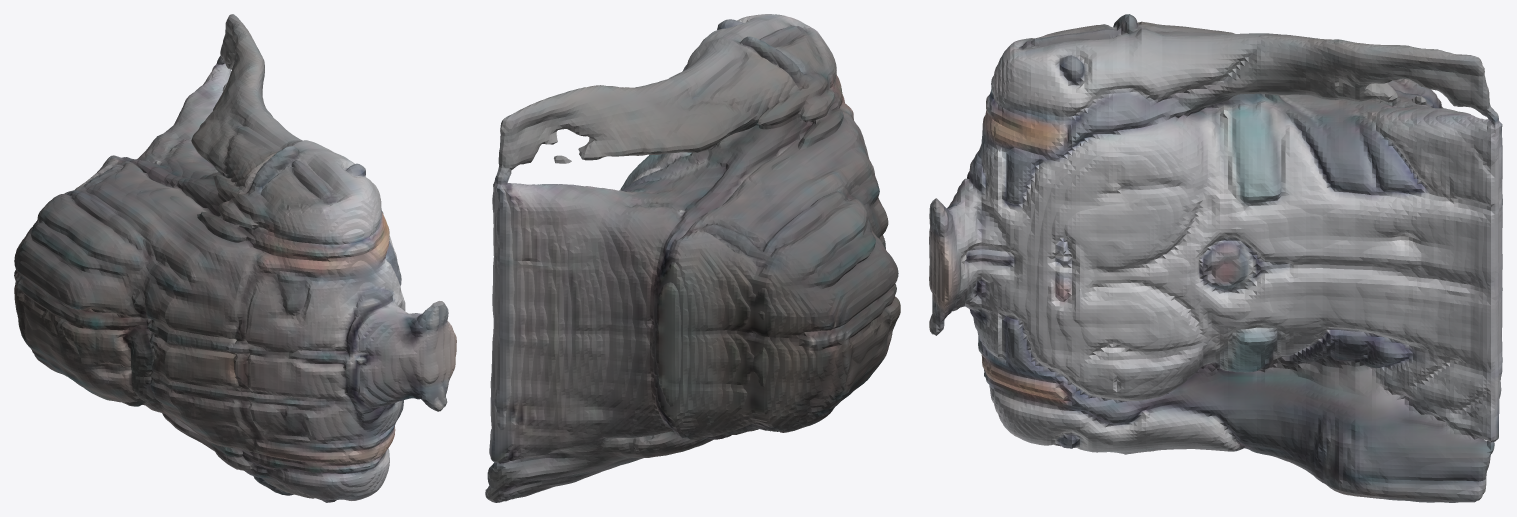
3 views of the same model, side by side, from view 1: azimuth 30°, elevation 25°; view 2: azimuth 150°, elevation 25°; view 3: azimuth 270°, elevation 25° (orthographic). The views are drawn at different scales.
Visible parts, largest first — view 1: world; view 2: world; view 3: world.
Part boxes in pixels (x1,y1,x2,y2): world: [14, 14, 456, 502]; world: [485, 14, 900, 502]; world: [929, 14, 1502, 502].
Bounding box in the file's own units: 0.6676 × 0.8175 × 0.9528.
